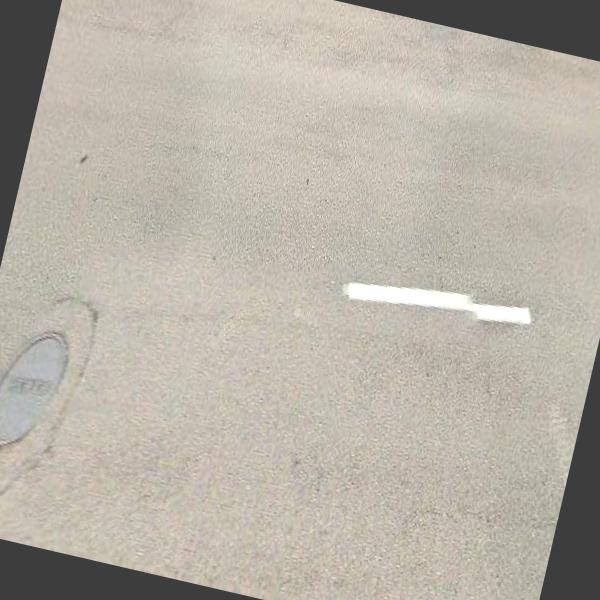manhole: (0, 299, 85, 476)
